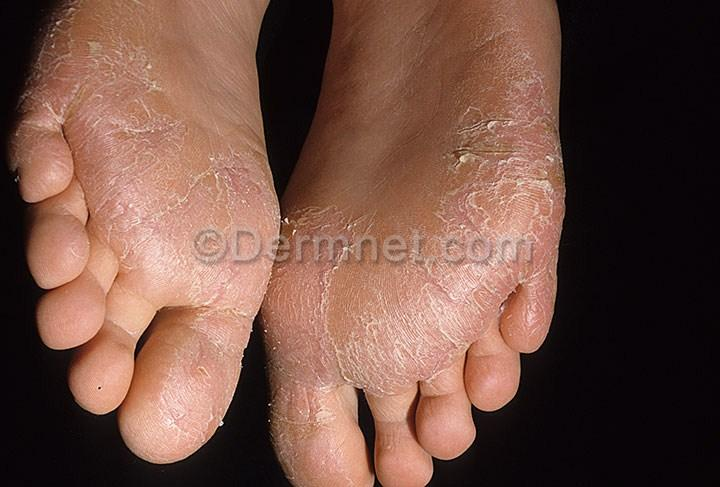Eczema: (442, 107, 555, 295), (65, 46, 170, 205), (276, 212, 345, 387), (184, 159, 268, 285), (357, 306, 482, 377), (187, 350, 220, 393)
